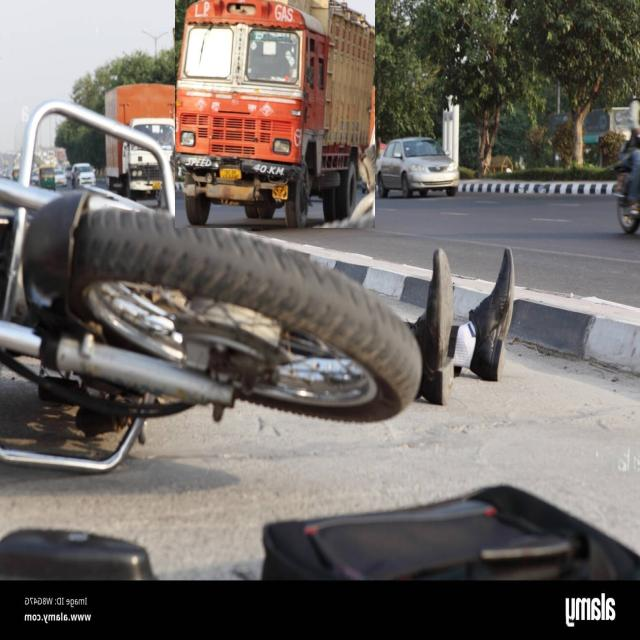accident: (0, 102, 514, 473)
car: (375, 138, 460, 197)
truck: (175, 0, 375, 228), (129, 117, 180, 157)
